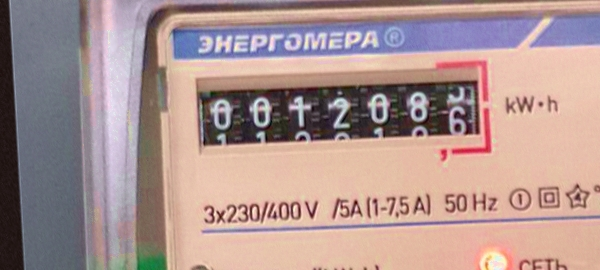0: (250, 91, 275, 130), (367, 89, 394, 125), (212, 94, 234, 132)
1: (291, 91, 310, 129)
2: (328, 94, 356, 130)
6: (446, 100, 470, 137)
8: (406, 88, 431, 125)
screen: (185, 49, 503, 184)
